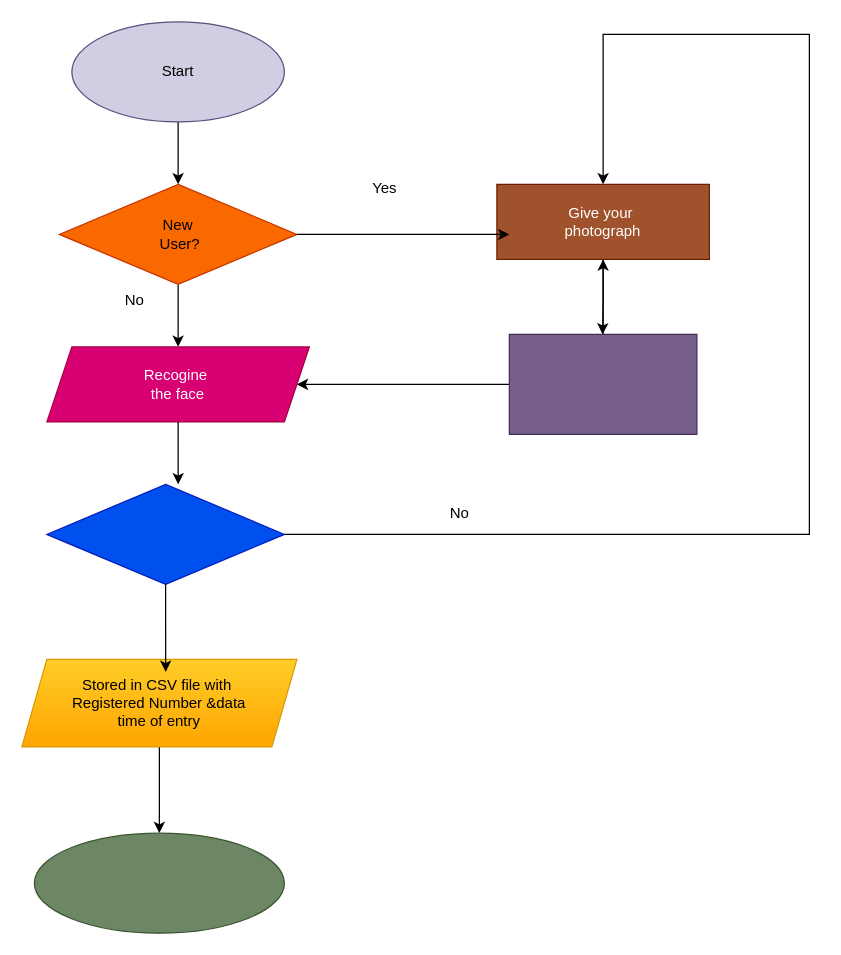
Some shapes in this 841 by 955 pixel diagram are drawn without their labels. Here are the shapes that lost their labels. From the top down, the centre of each, then its label:
At pixel 602 383: "store the face data in folder on your name".
At pixel 165 533: "Face Recognized".
At pixel 158 882: "End".
